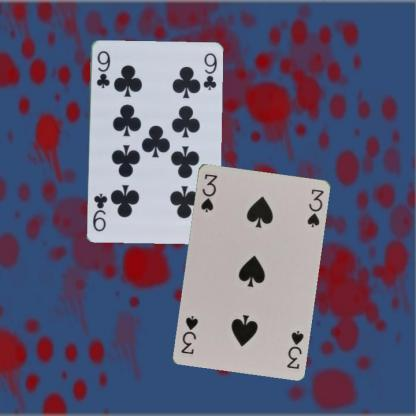3s: (284, 327, 304, 370), (198, 171, 218, 213)
9c: (94, 48, 112, 90)
